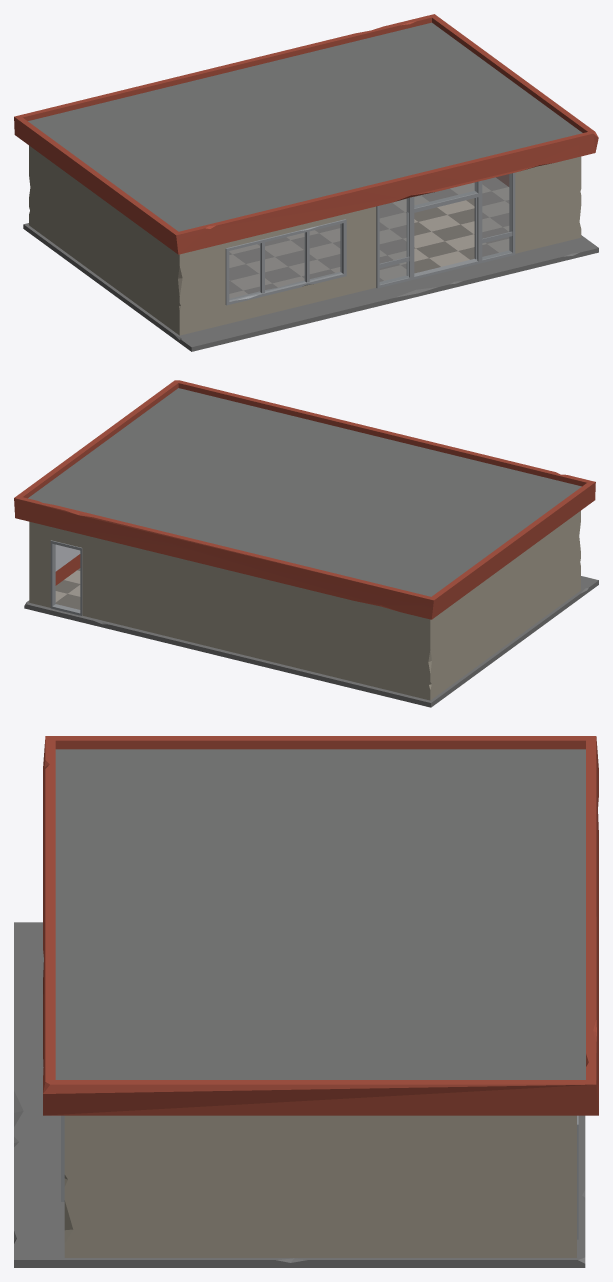
Rendered from SM_Bld_Shop_02_676.obj.
3 renders of one model, top to bottom at view 1: azimuth 30°, elevation 25°; view 2: azimuth 150°, elevation 25°; view 3: azimuth 270°, elevation 25°, orthographic. The views are drawn at different scales.
Visible parts, largest first — view 1: SM_Bld_Shop_02_0, SM_Bld_Shop_02_1; view 2: SM_Bld_Shop_02_0; view 3: SM_Bld_Shop_02_0.
Part boxes in pixels (x1=…): SM_Bld_Shop_02_0: x1=14, y1=14, x2=598, y2=351; SM_Bld_Shop_02_1: x1=229, y1=173, x2=511, y2=299; SM_Bld_Shop_02_0: x1=14, y1=380, x2=598, y2=707; SM_Bld_Shop_02_0: x1=14, y1=736, x2=598, y2=1267.
Bounding box in the file's own units: 15.48 × 3.9 × 10.94.
Materials: 2 (2 with a texture image).
